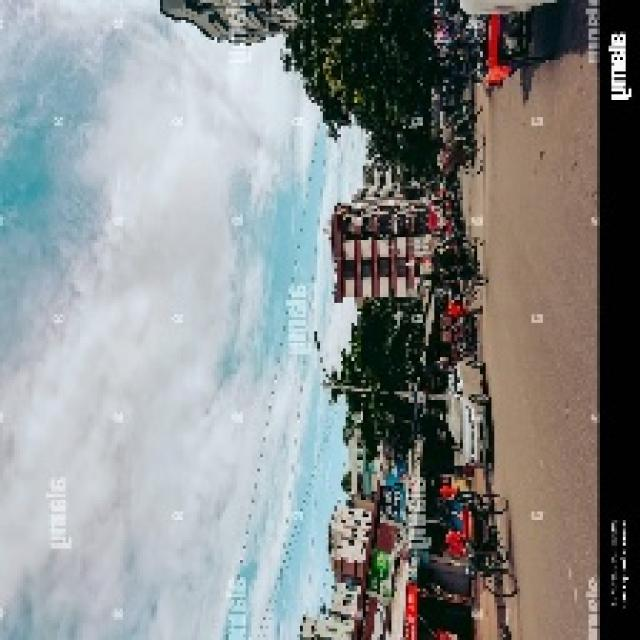rickshaw: (449, 483, 513, 609), (442, 108, 486, 177), (440, 233, 486, 294)
